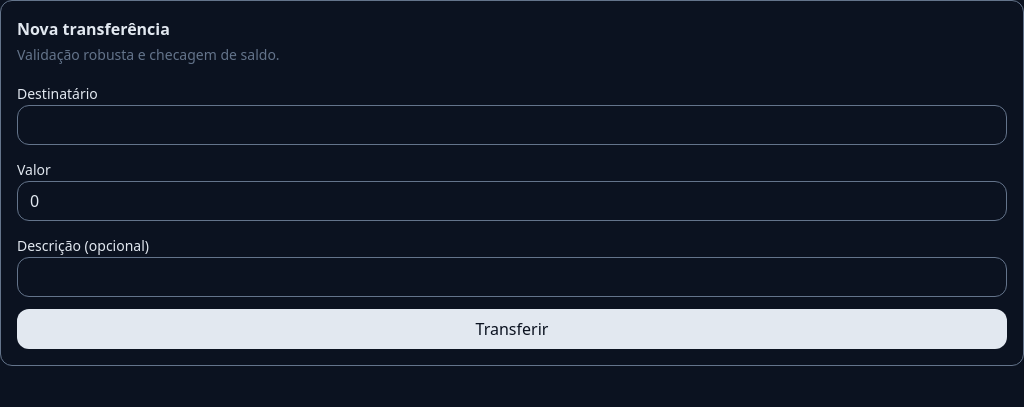
Test case: TransferForm › bloqueia submit quando saldo é insuficiente (antes do mutate)
Type "João" into the field labelled "Destinatário" at (512,125), box [17, 105, 1007, 145]
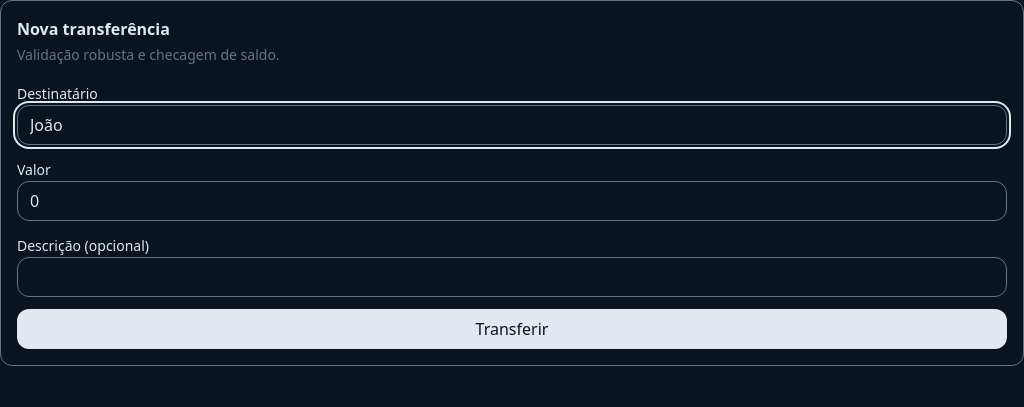
Replace the text in the number field labelled "Valor" with "100" at (512,201), box [17, 181, 1007, 221]
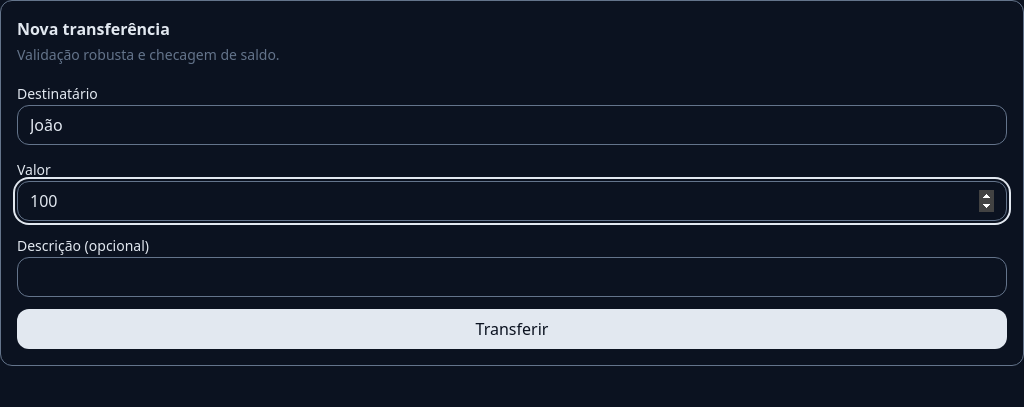
Type "Pix" into the field labelled "Descrição (opcional)" at (512,277), box [17, 257, 1007, 297]
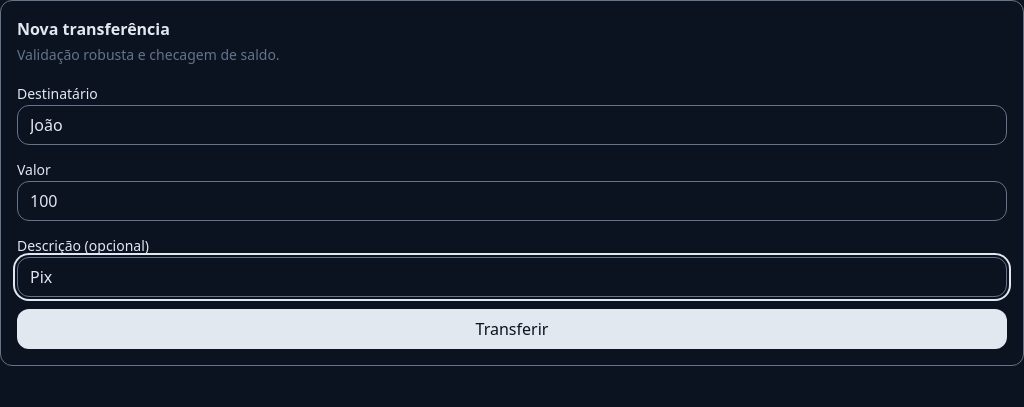
Click the button "Transferir" at (512,329), box [17, 309, 1007, 349]
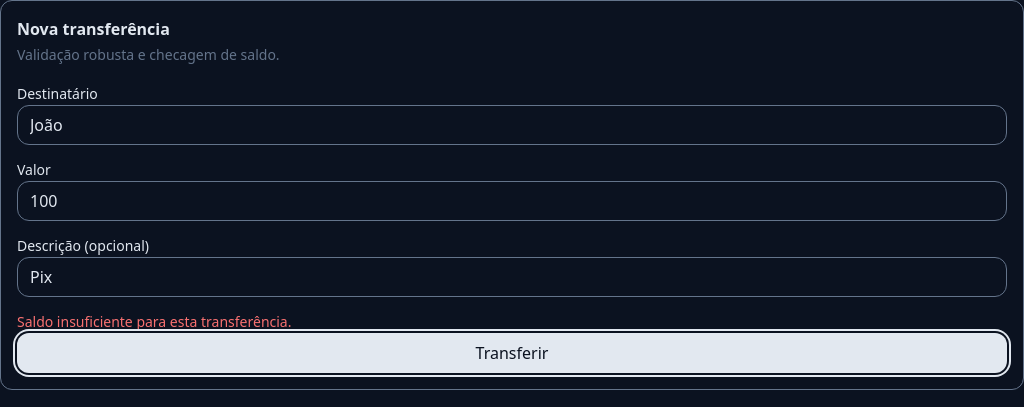
expect the text "Saldo insuficiente para esta transferência." is shown: met, box [17, 312, 292, 331]
